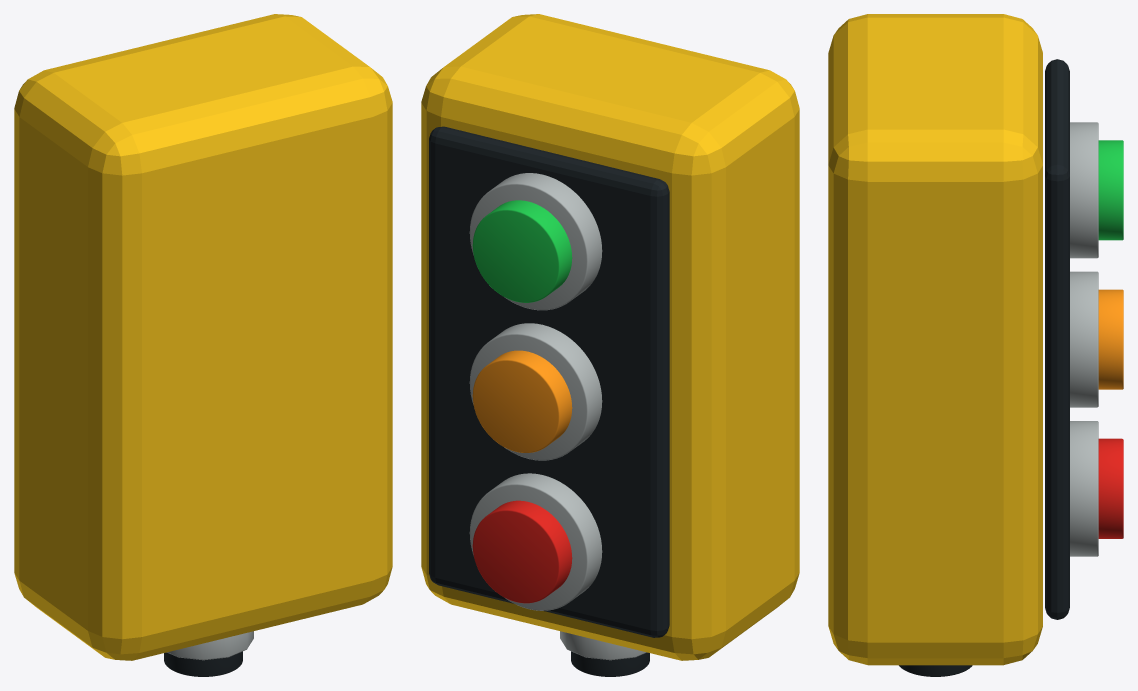
Rendered from three_button_control_station.glb.
3 views of the same model, side by side, from view 1: azimuth 30°, elevation 25°; view 2: azimuth 150°, elevation 25°; view 3: azimuth 270°, elevation 25° (orthographic).
Parts seen in each view (by area): view 1: STATION_enclosure, CABLE_body, CABLE_nut; view 2: STATION_enclosure, STATION_face, STOP_button, START_button, RESET_button, START_bezel, RESET_bezel, STOP_bezel, CABLE_body, CABLE_nut; view 3: STATION_enclosure, STATION_face, RESET_bezel, START_bezel, STOP_bezel, RESET_button, START_button, STOP_button, CABLE_body.
Part boxes in pixels (x1=…): STATION_enclosure: x1=14, y1=14, x2=392, y2=660; CABLE_body: x1=164, y1=651, x2=242, y2=676; CABLE_nut: x1=167, y1=631, x2=253, y2=660; STATION_enclosure: x1=421, y1=14, x2=799, y2=660; STATION_face: x1=429, y1=126, x2=669, y2=637; STOP_button: x1=472, y1=500, x2=572, y2=603; START_button: x1=472, y1=200, x2=572, y2=302; RESET_button: x1=472, y1=350, x2=572, y2=452; START_bezel: x1=469, y1=173, x2=602, y2=310; RESET_bezel: x1=469, y1=323, x2=602, y2=460; STOP_bezel: x1=469, y1=473, x2=602, y2=610; CABLE_body: x1=571, y1=651, x2=649, y2=676; CABLE_nut: x1=560, y1=631, x2=646, y2=660; STATION_enclosure: x1=828, y1=14, x2=1042, y2=665; STATION_face: x1=1045, y1=59, x2=1069, y2=619; RESET_bezel: x1=1070, y1=271, x2=1098, y2=407; START_bezel: x1=1070, y1=122, x2=1098, y2=258; STOP_bezel: x1=1070, y1=421, x2=1098, y2=556; RESET_button: x1=1098, y1=289, x2=1123, y2=389; START_button: x1=1098, y1=140, x2=1123, y2=240; STOP_button: x1=1098, y1=438, x2=1123, y2=538; CABLE_body: x1=899, y1=665, x2=972, y2=676.
Size of the model in its own units: 0.48 by 0.905 by 0.4125.
